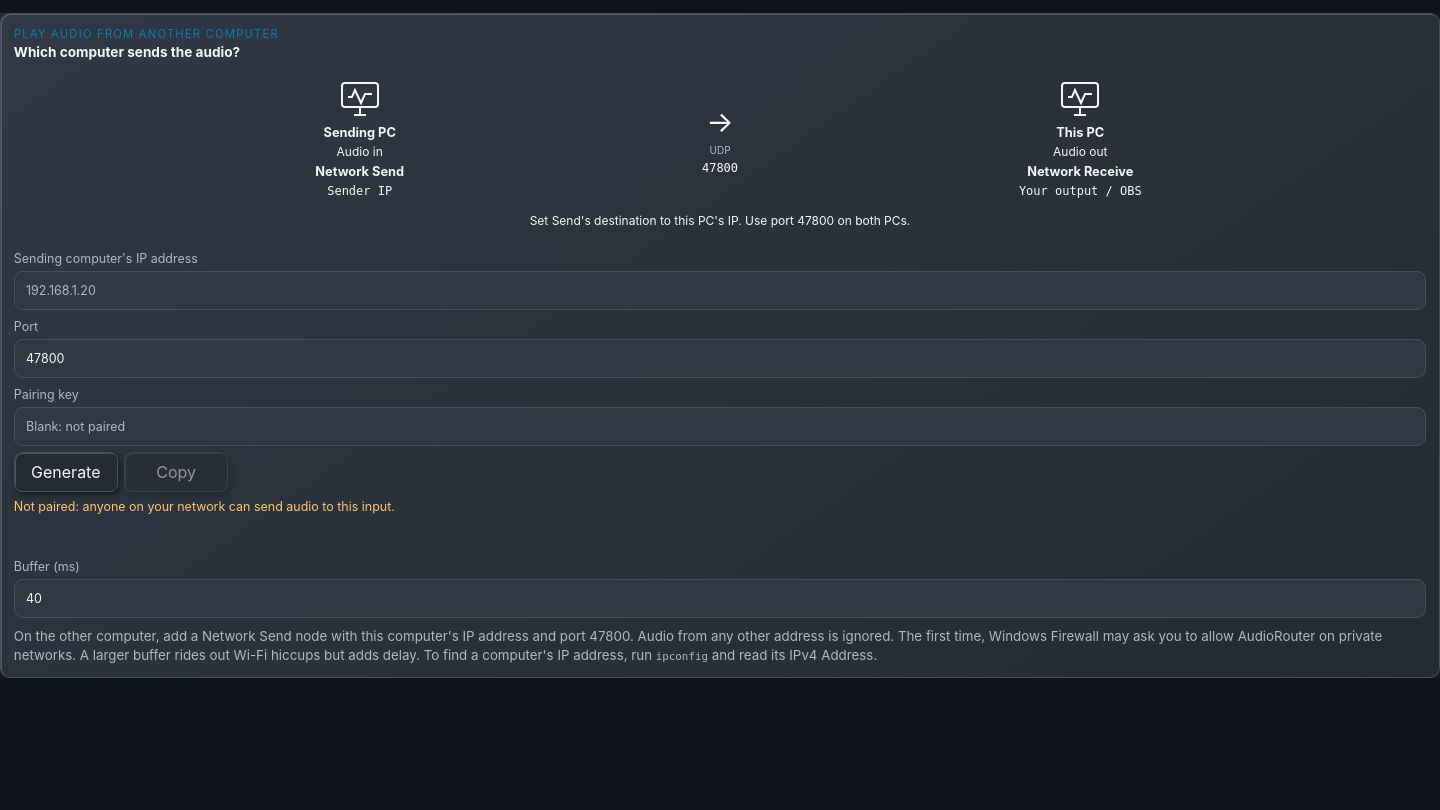
Test case: network pairing keys › saves only valid keys, generates and copies one, and warns while unpaired
Check: the text with test id "network-pairing-note" reads "Not paired: anyone on your network can send audio to this input.", box [14,499,395,514]
Check: the button "Copy" is disabled, box [124,452,228,492]
Step 1. Type "short" into the field labelled "Pairing key" → (720, 426), box [14,406,1426,446]
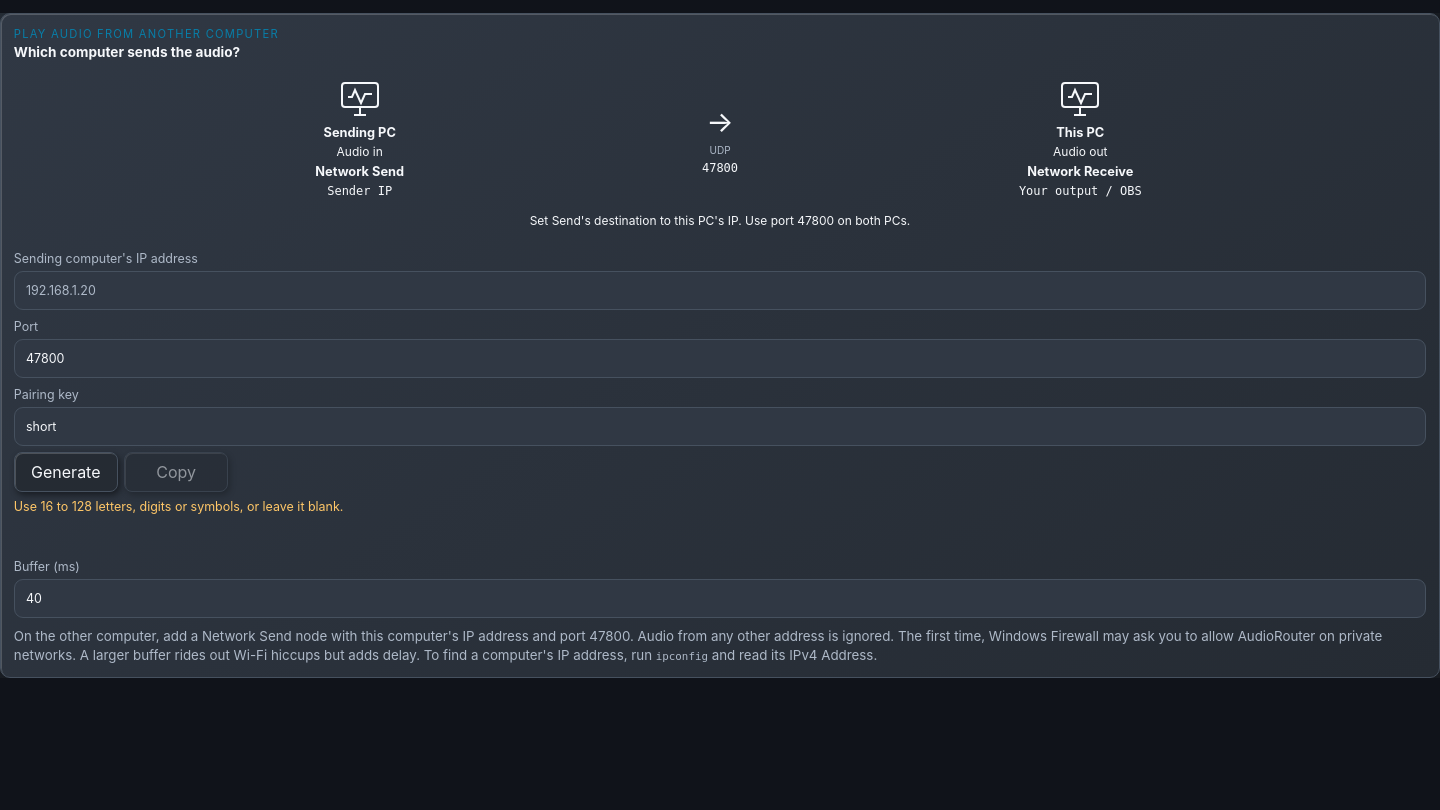
Check: the text with test id "network-pairing-note" shows "16 to 128", box [14,499,343,514]
Step 2. Click the button "Generate" → (66, 472), box [14,452,118,492]
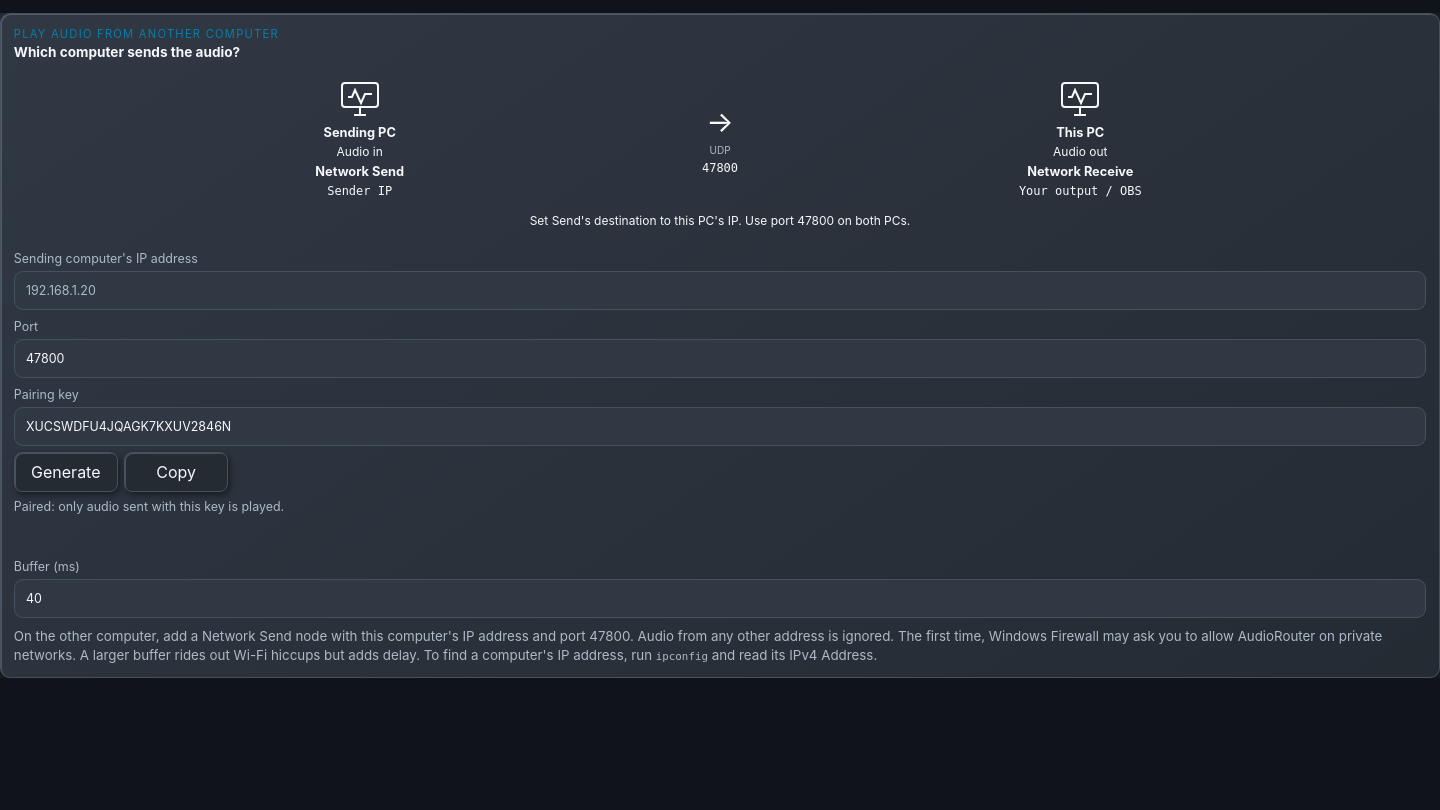
Check: the text with test id "network-pairing-note" reads "Paired: only audio sent with this key is played.", box [14,499,284,514]
Step 3. Click the button "Copy" → (176, 472), box [124,452,228,492]
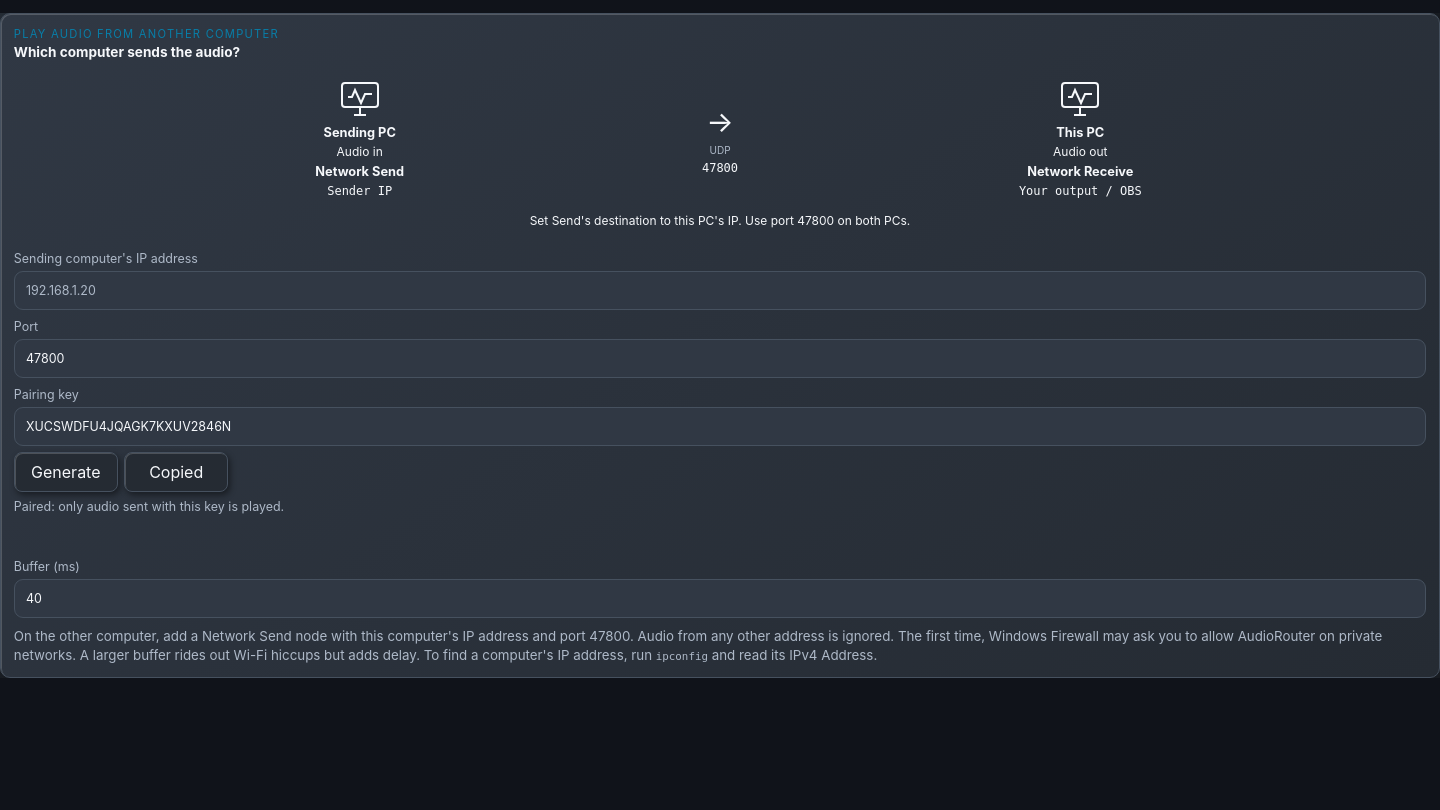
Check: the button "Copied" is shown, box [124,452,228,492]
# Clearing the key unpairs (a blank key is valid and saved).
Step 4. Clear the field labelled "Pairing key" → (720, 426), box [14,406,1426,446]
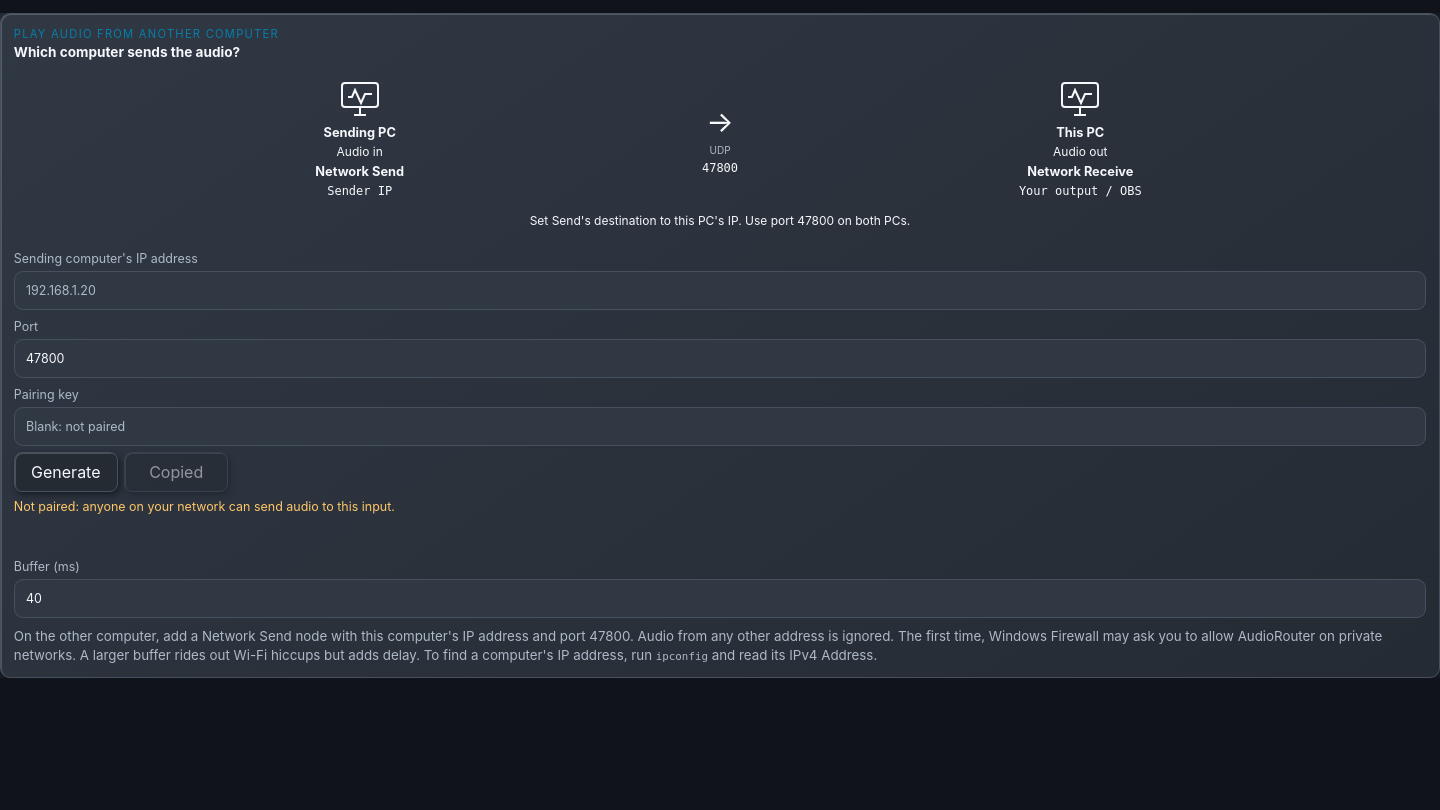
Check: the text with test id "network-pairing-note" shows "Not paired", box [14,499,395,514]
